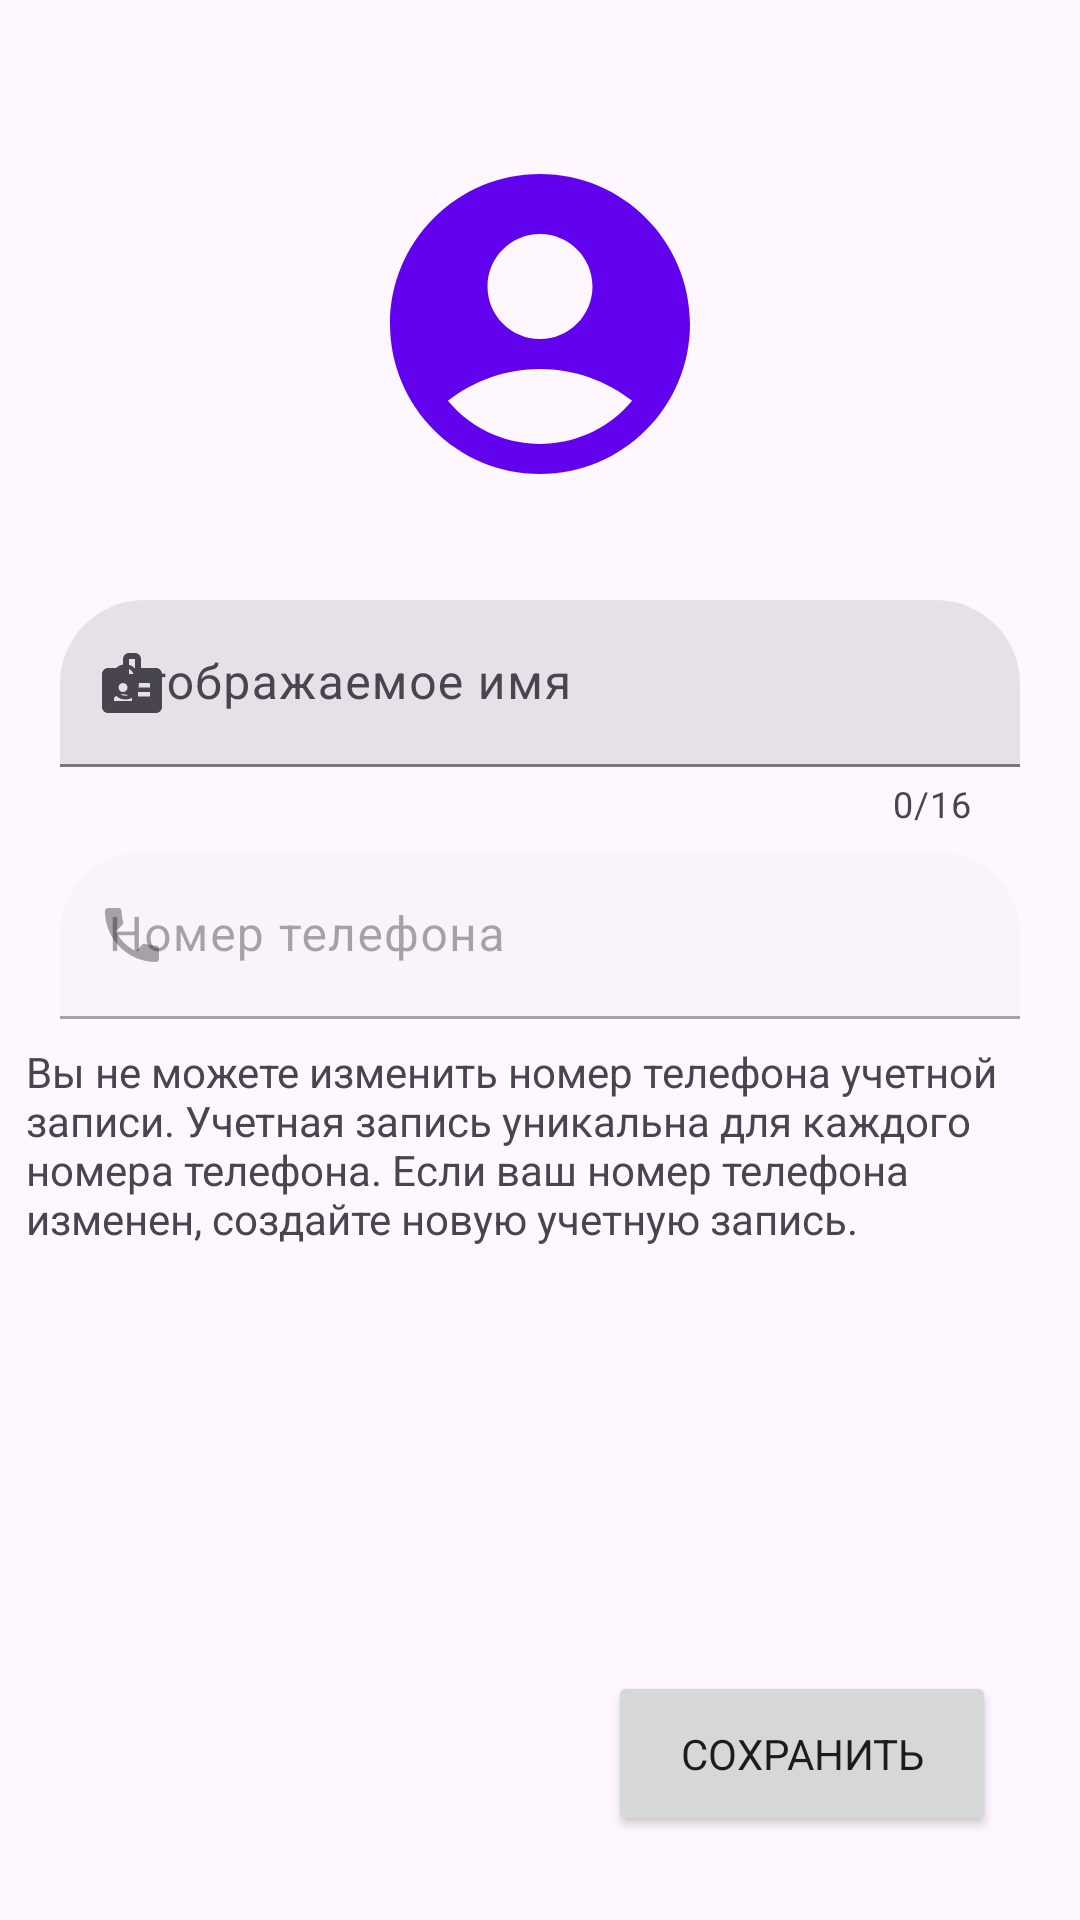

Named icons in this screenshot (1080px×1920px) and their centers, [x,y]:
account circle: [540,324]
